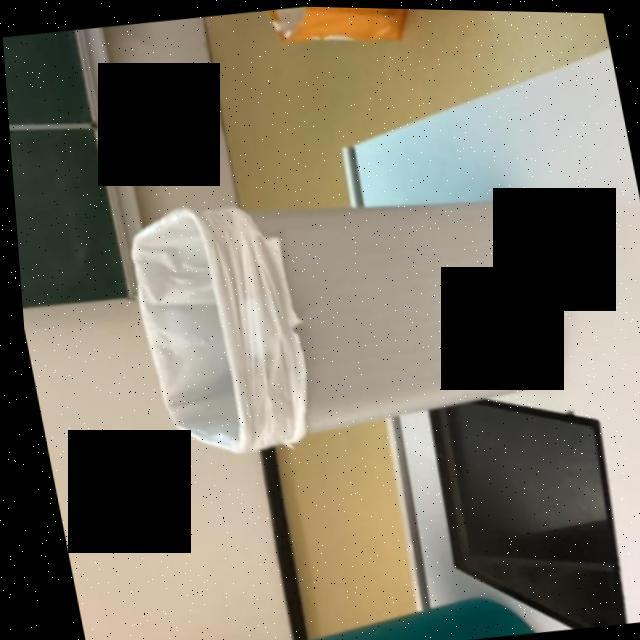bin: (87, 152, 588, 467), (169, 588, 532, 640)
